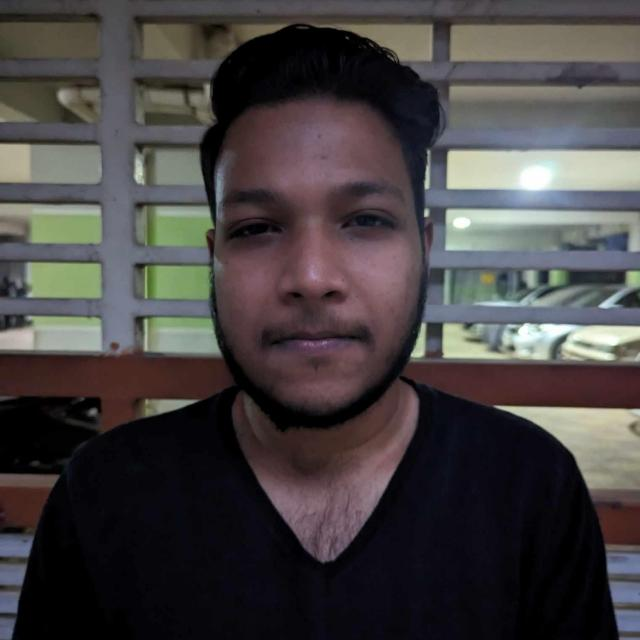Natural: (181, 70, 465, 449)
